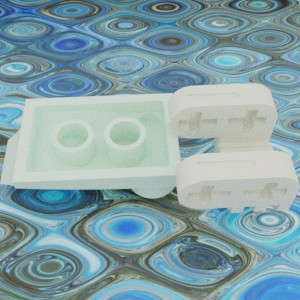lego: (0, 93, 182, 198), (168, 83, 300, 212)
